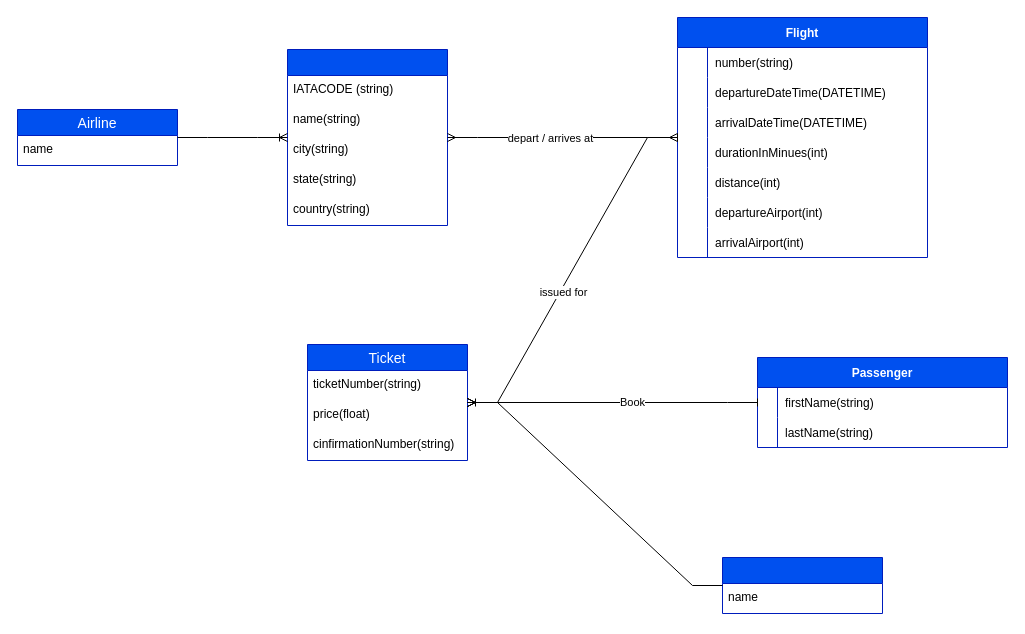
This 1025x634 diagram has some shape labels left out. The box of each missing label's shape, as (x1, y1, x2, y2) in pixels:
Airport: (286, 48, 448, 226)
Flight Class: (722, 556, 882, 614)
